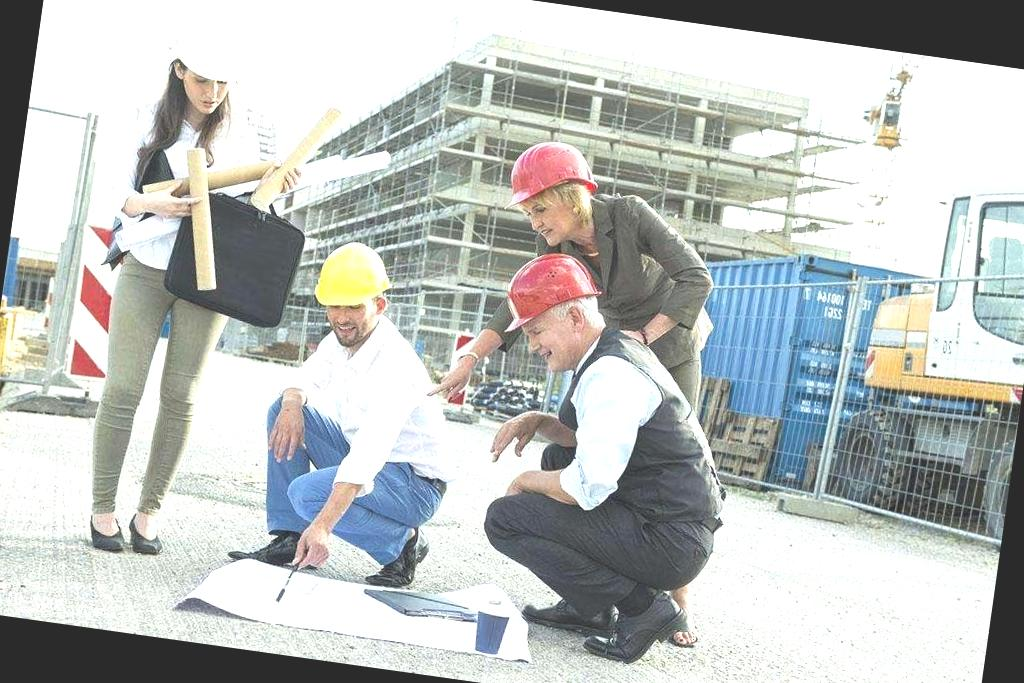helmet: (490, 236, 608, 346), (496, 124, 616, 232), (158, 5, 254, 100), (308, 230, 402, 319)
no_vest: (287, 318, 461, 525), (109, 99, 268, 304)
person: (45, 1, 289, 573), (432, 240, 762, 654), (226, 222, 482, 590)
